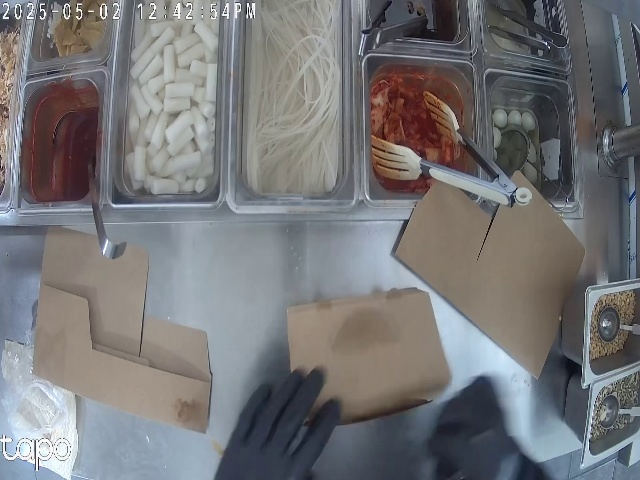closed delivery box: (283, 303, 449, 423)
hand: (233, 377, 345, 477), (443, 384, 539, 477)
